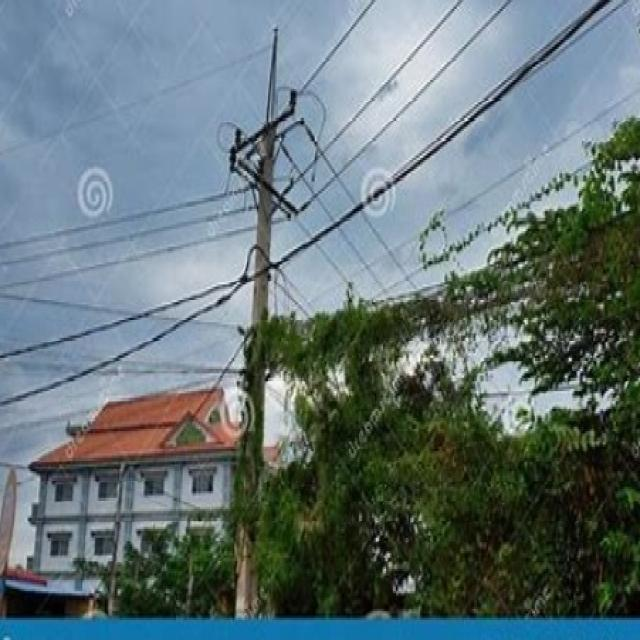critical vegetation: (260, 268, 640, 406)
